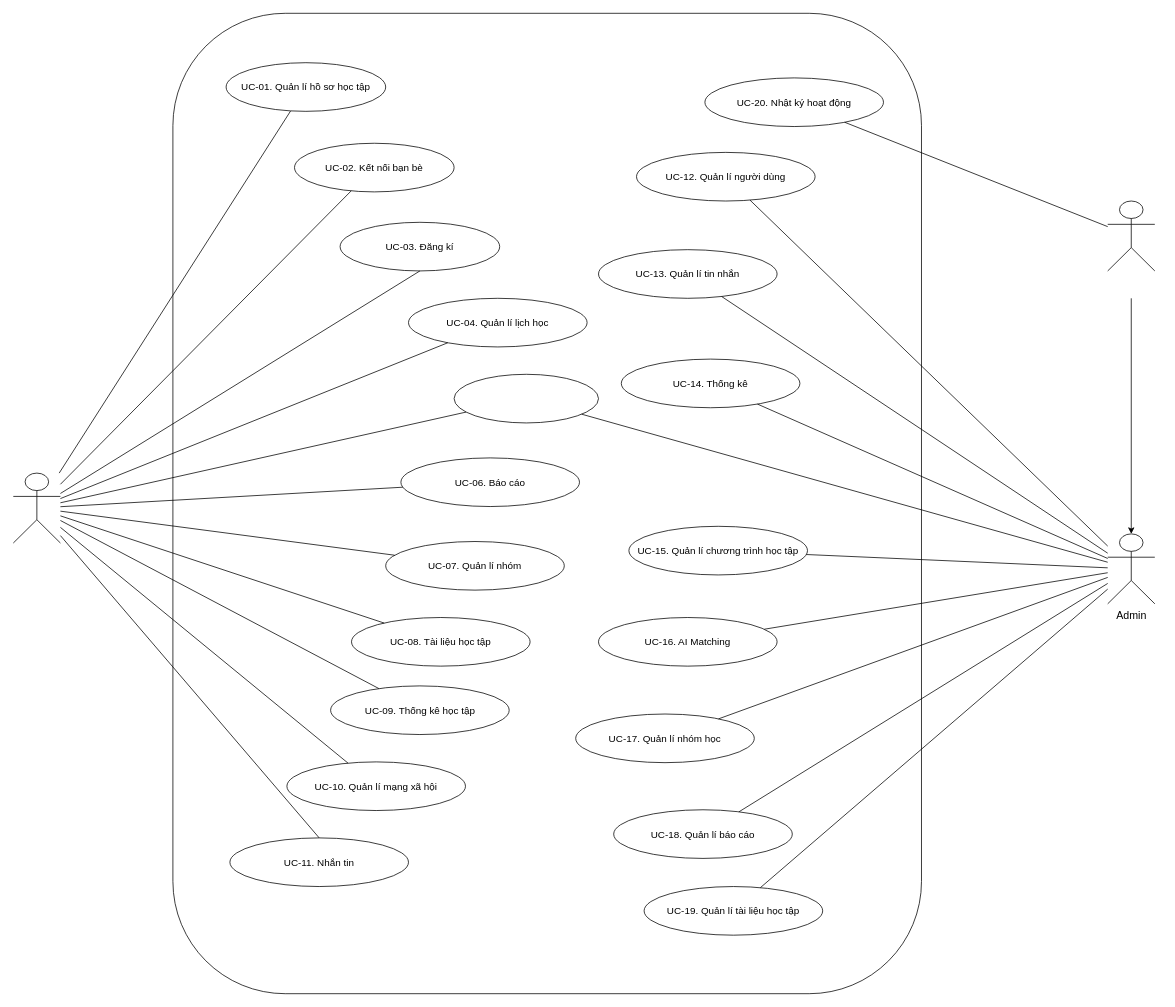
This 1175x1007 diagram has some shape labels left out. Here are the shapes that lost their labels. From the top down, the centre of each, then its label:
At [1131,235]: "Super Admin".
At [525,398]: "UC-05. Đăng Nhập".
At [36,507]: "Sinh viên".
